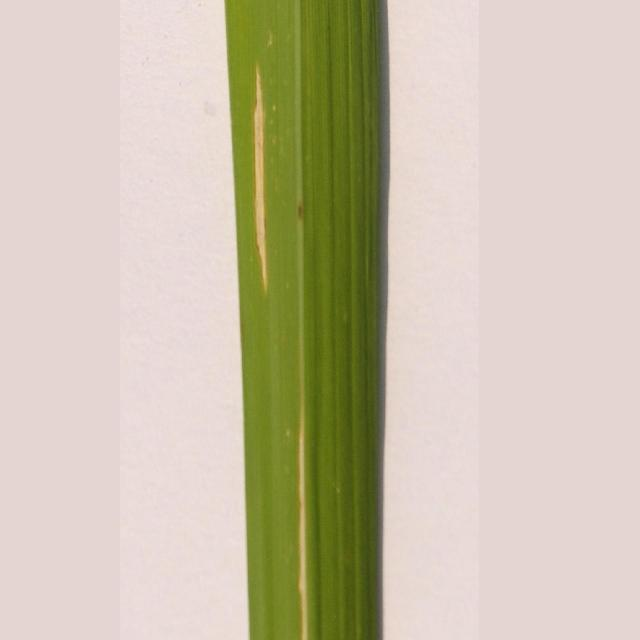Bacterial leaf blight: (288, 327, 329, 640), (242, 55, 283, 298), (290, 199, 312, 240)
